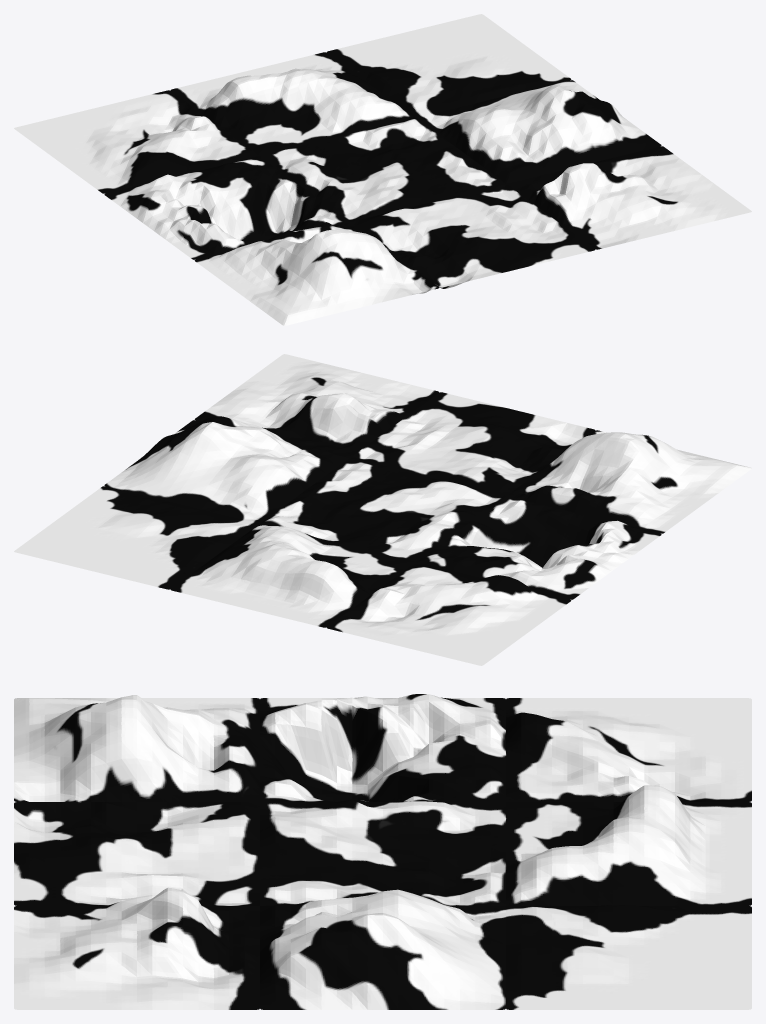
The model's file is Valleysnow.fbx.
The picture shows the model from 3 angles, top to bottom: view 1: azimuth 30°, elevation 25°; view 2: azimuth 150°, elevation 25°; view 3: azimuth 270°, elevation 25°; orthographic projection. The views are drawn at different scales.
Parts seen in each view (by area): view 1: m_tile01_20x20_01; view 2: m_tile01_20x20_01; view 3: m_tile01_20x20_01.
Part boxes in pixels (box(x1,y1,x2,y2)): m_tile01_20x20_01: box(14, 14, 751, 325); m_tile01_20x20_01: box(14, 354, 751, 665); m_tile01_20x20_01: box(14, 694, 751, 1009).
Bounding box in the file's own units: 6001 × 985 × 6001.
Materials: 1 (1 with a texture image).
